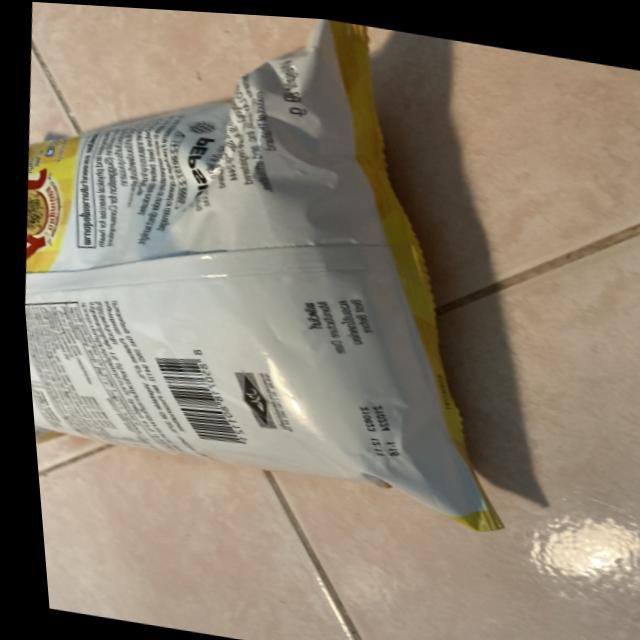LayYellow: (0, 0, 548, 533)
